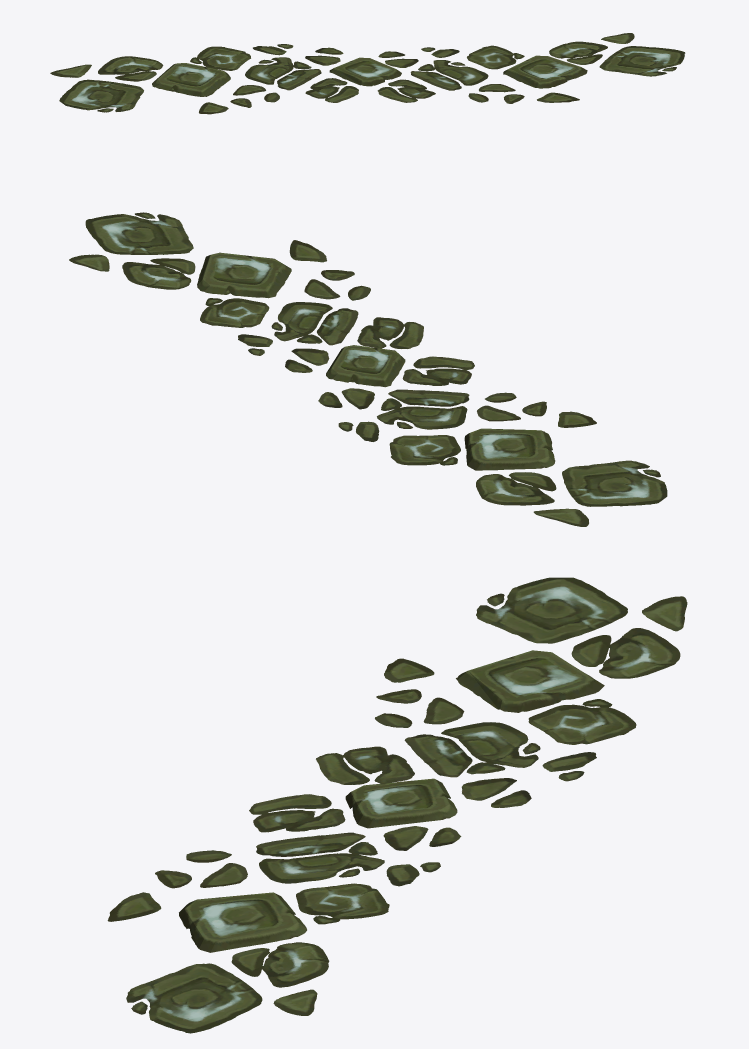
Rendered from pavers_s_snow_01.fbx.
The picture shows the model from 3 angles, top to bottom: view 1: azimuth 30°, elevation 25°; view 2: azimuth 150°, elevation 25°; view 3: azimuth 270°, elevation 25°; orthographic projection. The views are drawn at different scales.
Parts seen in each view (by area): view 1: obj0.103; view 2: obj0.103; view 3: obj0.103.
Part boxes in pixels (x1,y1,x2,y2): obj0.103: [50, 33, 685, 114]; obj0.103: [69, 212, 667, 526]; obj0.103: [107, 577, 687, 1033].
Bounding box in the file's own units: 15.01 × 0.1007 × 10.
